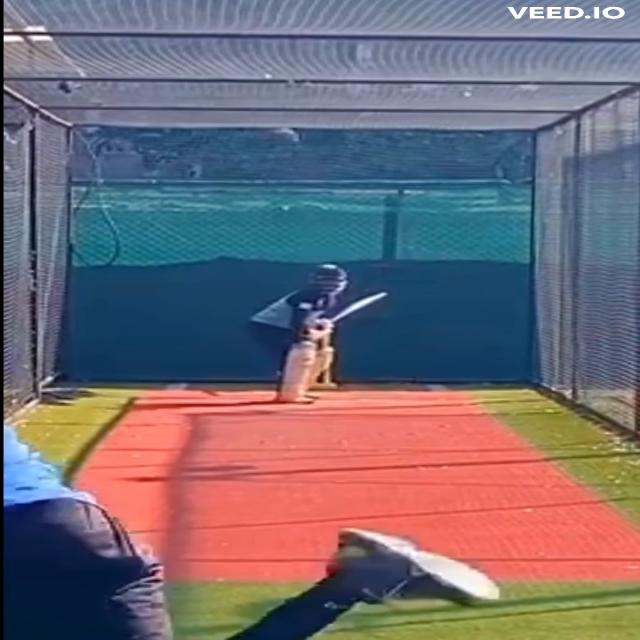ball: (269, 124, 306, 148)
